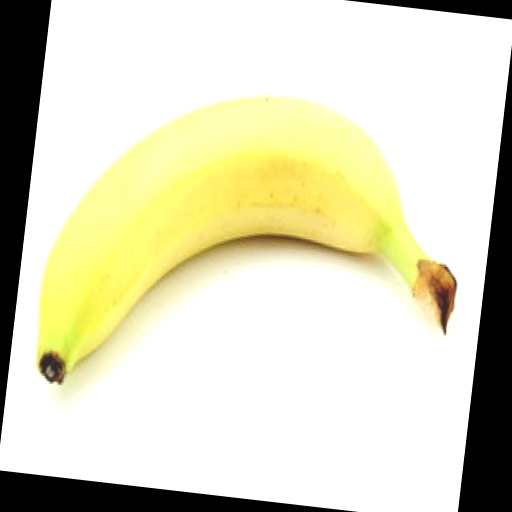fruit: (38, 97, 455, 382)
